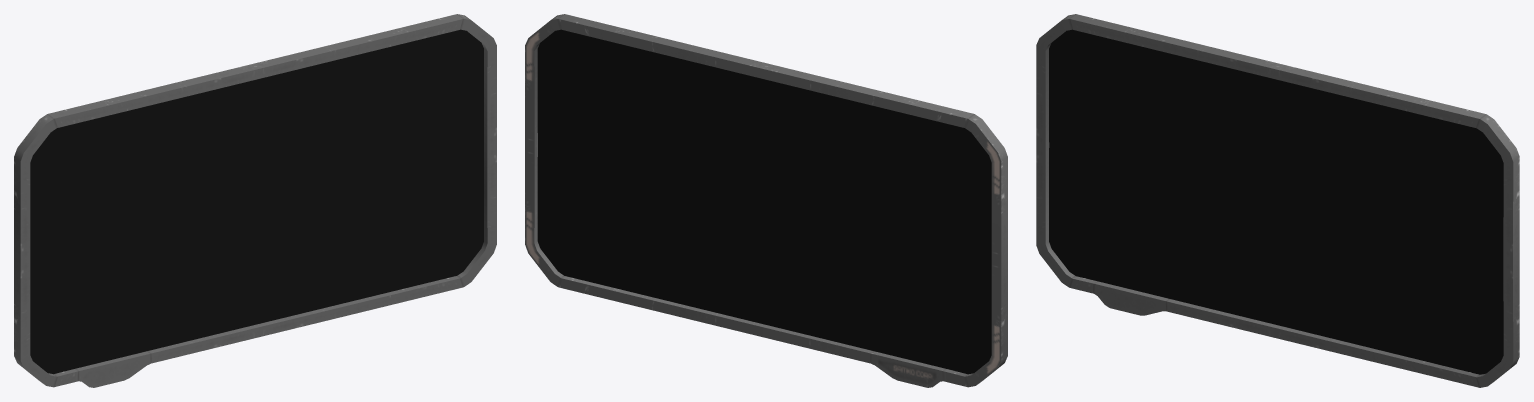
Rendered from SM_Holoscreen_E.FBX.
3 renders of one model, left to right at view 1: azimuth 30°, elevation 25°; view 2: azimuth 150°, elevation 25°; view 3: azimuth 330°, elevation 25°, orthographic.
Visible parts, largest first — view 1: SM_Holoscreen_E; view 2: SM_Holoscreen_E; view 3: SM_Holoscreen_E.
Part boxes in pixels (box(x1,y1,x2,y2)): SM_Holoscreen_E: box(14, 14, 496, 387); SM_Holoscreen_E: box(525, 14, 1007, 387); SM_Holoscreen_E: box(1036, 14, 1519, 387).
Size of the model in its own units: 126 by 70.53 by 3.14.
Materials: 1 (1 with a texture image).
